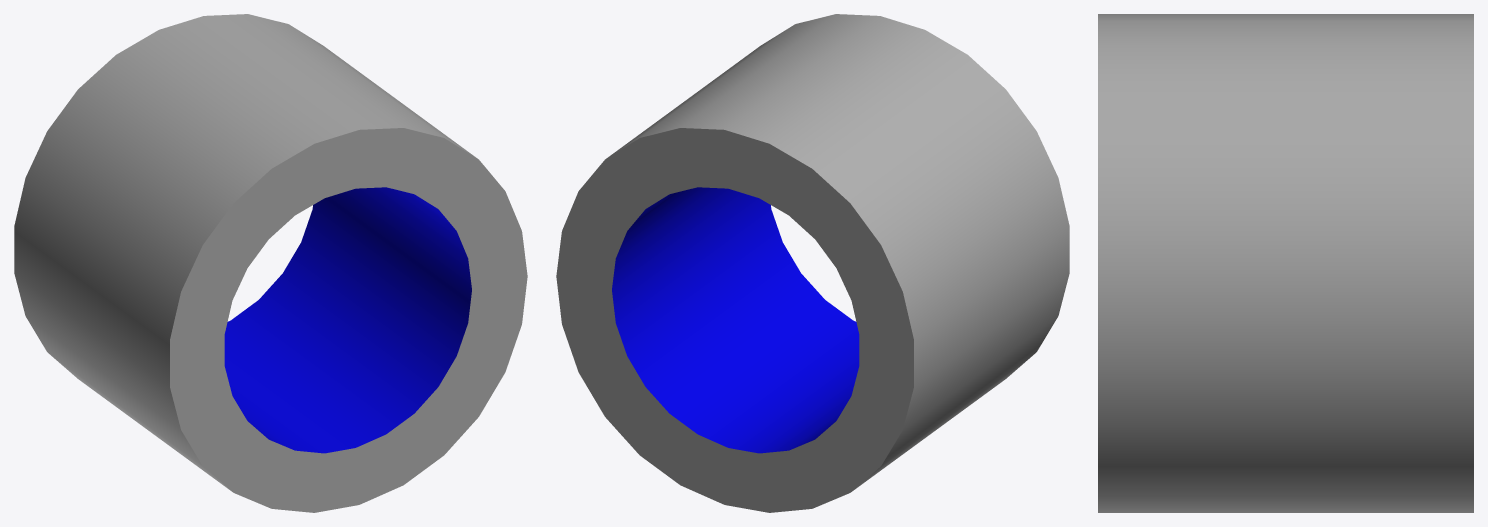
File: Wide_Ring_Small.fbx
The picture shows the model from 3 angles, left to right: view 1: azimuth 30°, elevation 25°; view 2: azimuth 150°, elevation 25°; view 3: azimuth 270°, elevation 25°; orthographic projection. The views are drawn at different scales.
Visible parts, largest first — view 1: pasted__pCylinder1; view 2: pasted__pCylinder1; view 3: pasted__pCylinder1.
Part boxes in pixels (x1,y1,x2,y2): pasted__pCylinder1: [14, 14, 527, 512]; pasted__pCylinder1: [556, 14, 1069, 512]; pasted__pCylinder1: [1098, 14, 1473, 512].
Size of the model in its own units: 1.91 by 1.92 by 1.44.
